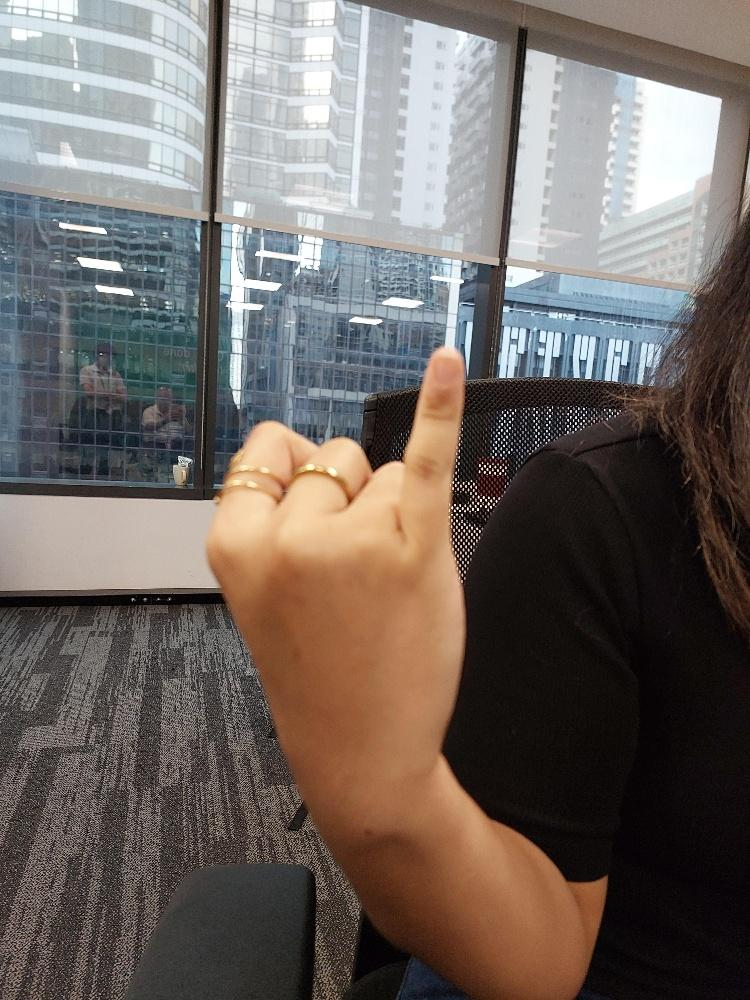j: (200, 341, 471, 805)
